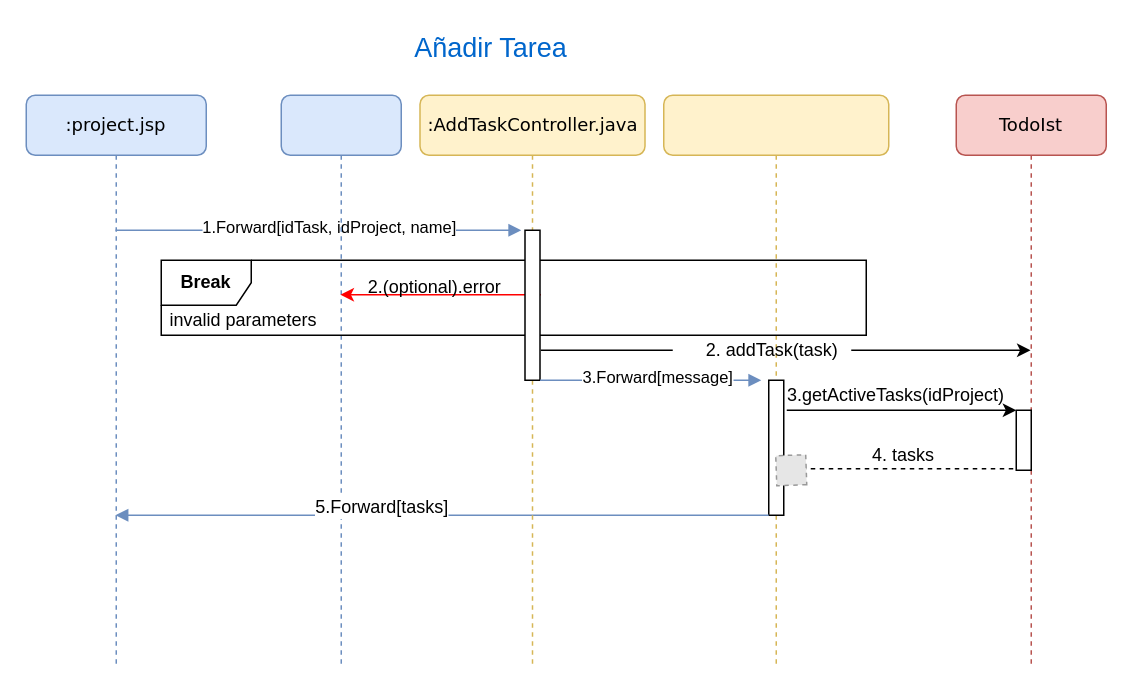
This 1133x692 diagram has some shape labels left out. Grey dashed boxes stand in for pictures. Each missing label, with the box of its shape:
:error.jsp: (280, 94, 401, 665)
:GetTasksController.java: (662, 94, 889, 665)
